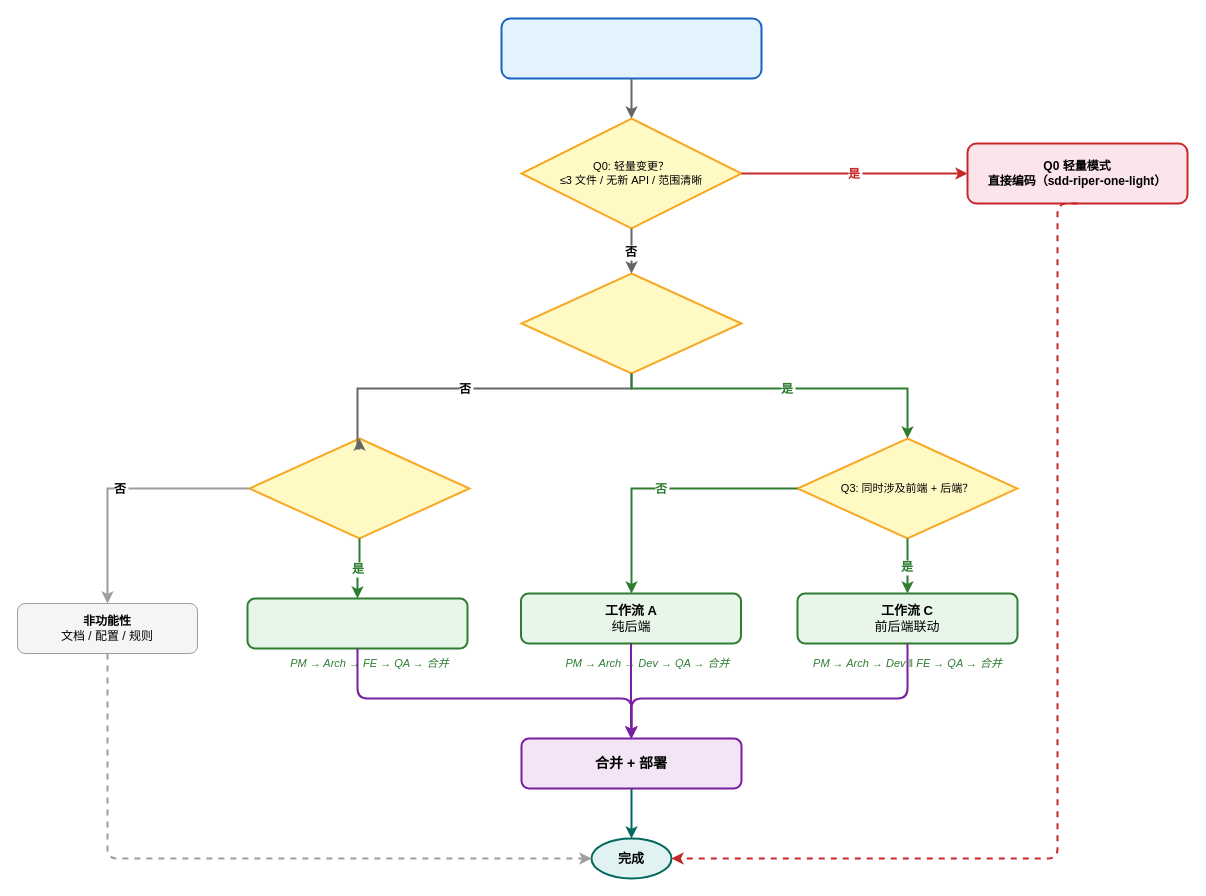
Image size: 1206x896. Some labels were removed from this diagram. The shapes that lost their labels are listed below. From the top down, each one's box as (x1, y1, x2, y2) in pixels, then its label:
(500, 17, 762, 79): Intake 收集目标 / 边界 / 验收标准
(520, 272, 742, 374): Q1: 涉及 DB / API / 后端？
(248, 437, 470, 539): Q2: 涉及页面 / 组件 / 交互？
(246, 597, 468, 649): 工作流 B 纯前端
